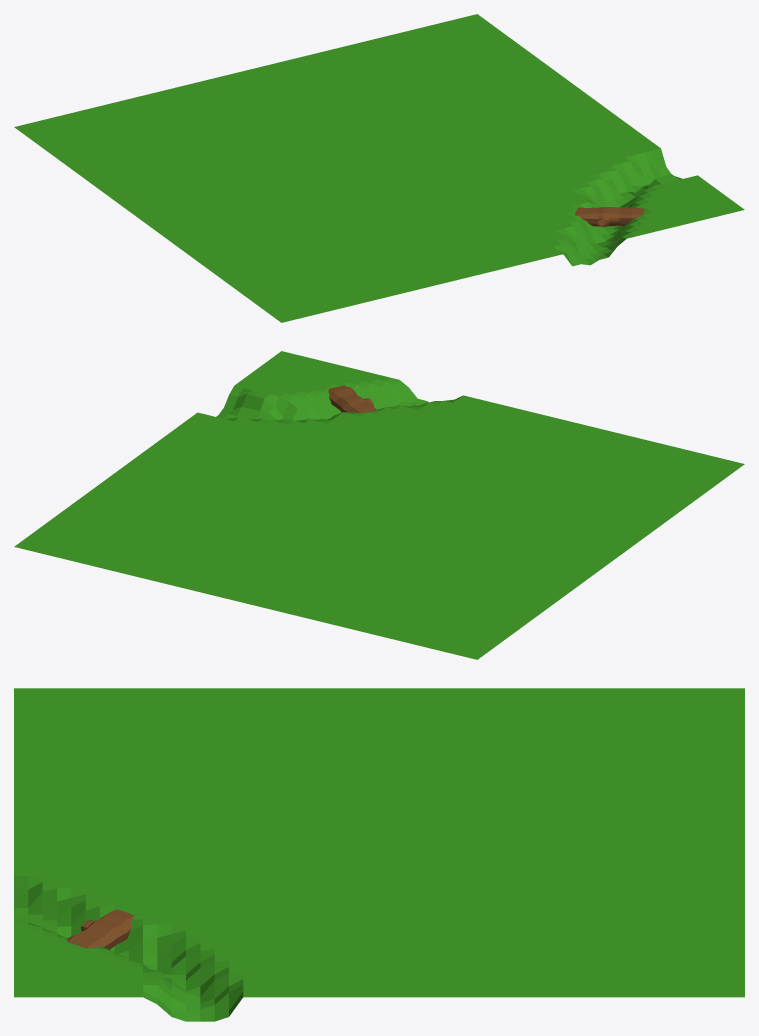
The model's file is terrain.fbx.
The picture shows the model from 3 angles, top to bottom: view 1: azimuth 30°, elevation 25°; view 2: azimuth 150°, elevation 25°; view 3: azimuth 270°, elevation 25°; orthographic projection. The views are drawn at different scales.
Visible parts, largest first — view 1: Plane, Cylinder; view 2: Plane, Cylinder; view 3: Plane, Cylinder.
Boxes of the visible parts, left/top/right/bottom form: Plane: left=14, top=14, right=744, bottom=322; Cylinder: left=575, top=207, right=644, bottom=227; Plane: left=14, top=351, right=744, bottom=659; Cylinder: left=328, top=385, right=376, bottom=413; Plane: left=14, top=688, right=744, bottom=1021; Cylinder: left=66, top=909, right=134, bottom=949.
Size of the model in its own units: 2000 by 82.79 by 2000.
